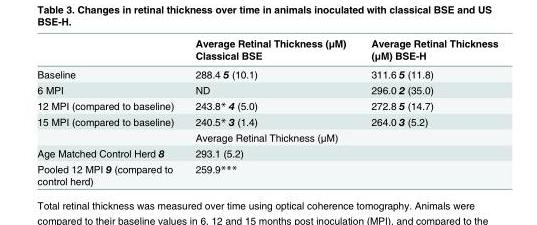table: (36, 36, 497, 186)
table column: (183, 36, 357, 186), (36, 36, 183, 186), (357, 36, 497, 186)
table column header: (36, 36, 497, 64)
table row: (36, 36, 497, 64), (36, 160, 497, 186), (36, 64, 497, 81), (36, 81, 497, 97), (36, 97, 497, 113), (36, 113, 497, 129), (36, 144, 497, 160), (36, 129, 497, 144)
table spanning cell: (183, 160, 497, 186), (183, 144, 497, 160), (183, 129, 497, 144), (36, 113, 183, 144)
